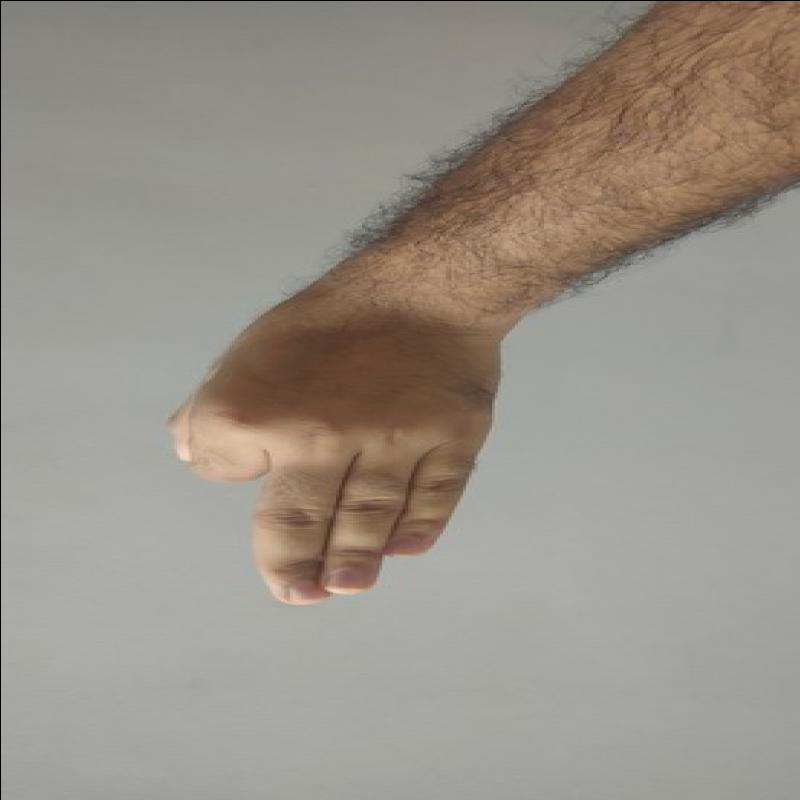Mudraakhyam: (143, 302, 507, 635)
